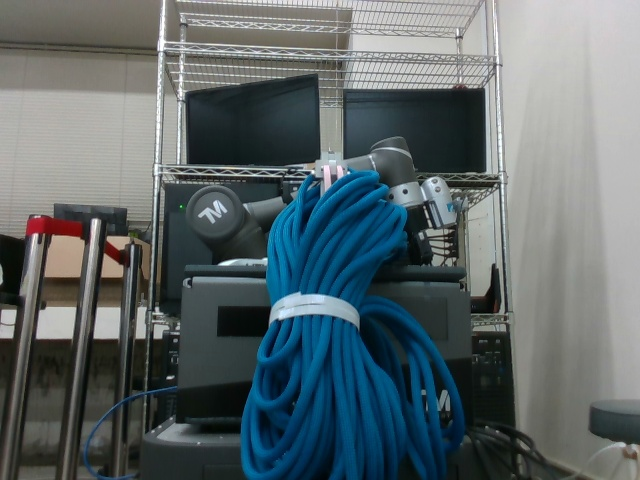rope: (237, 167, 462, 480)
